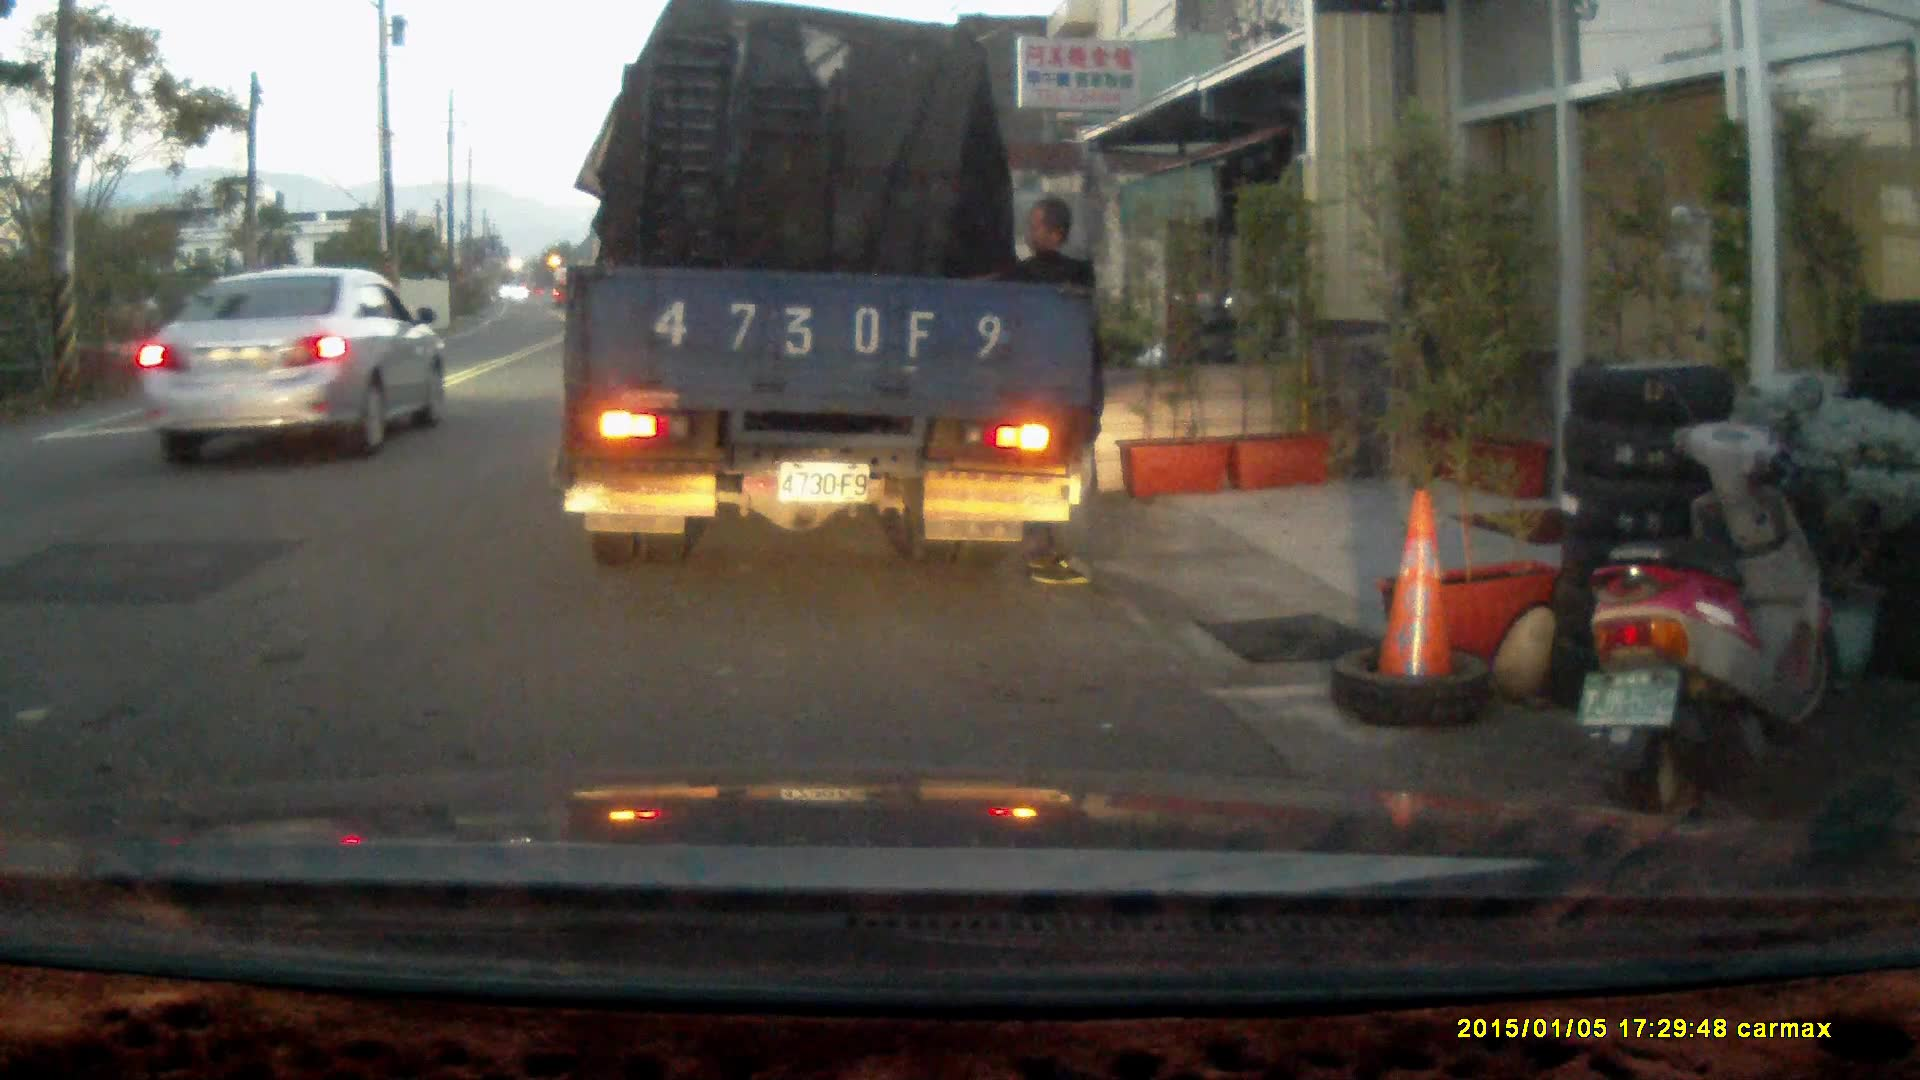pedestrian: (965, 197, 1105, 587)
vehicle: (565, 23, 1097, 572), (128, 267, 450, 466)
